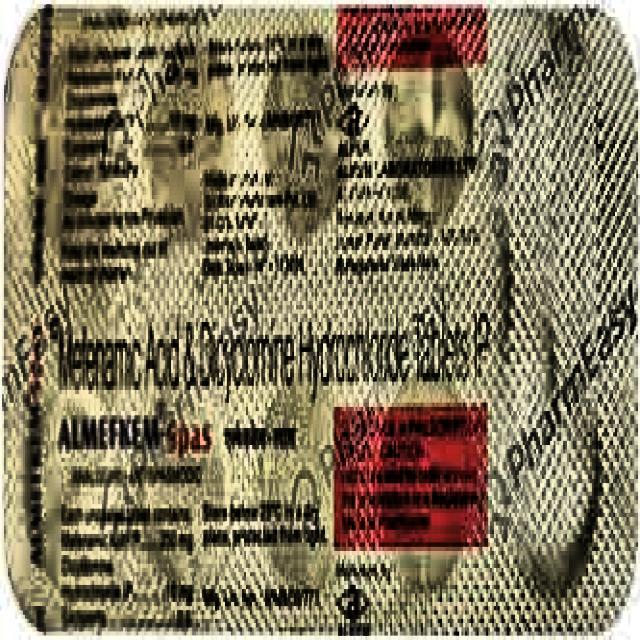Meftal: (34, 281, 474, 499)
